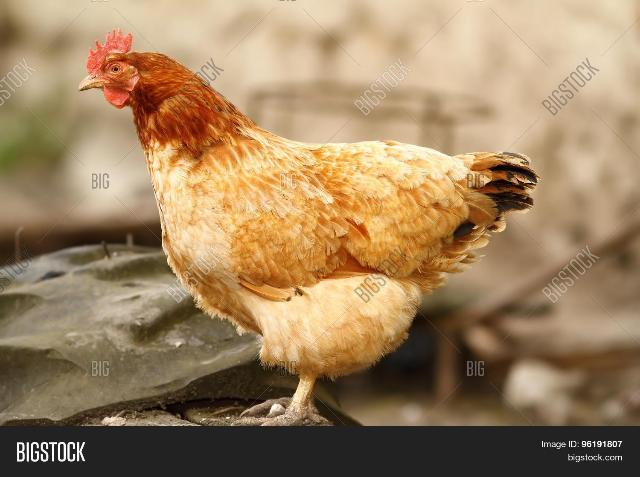Chicken: (78, 30, 540, 418)
